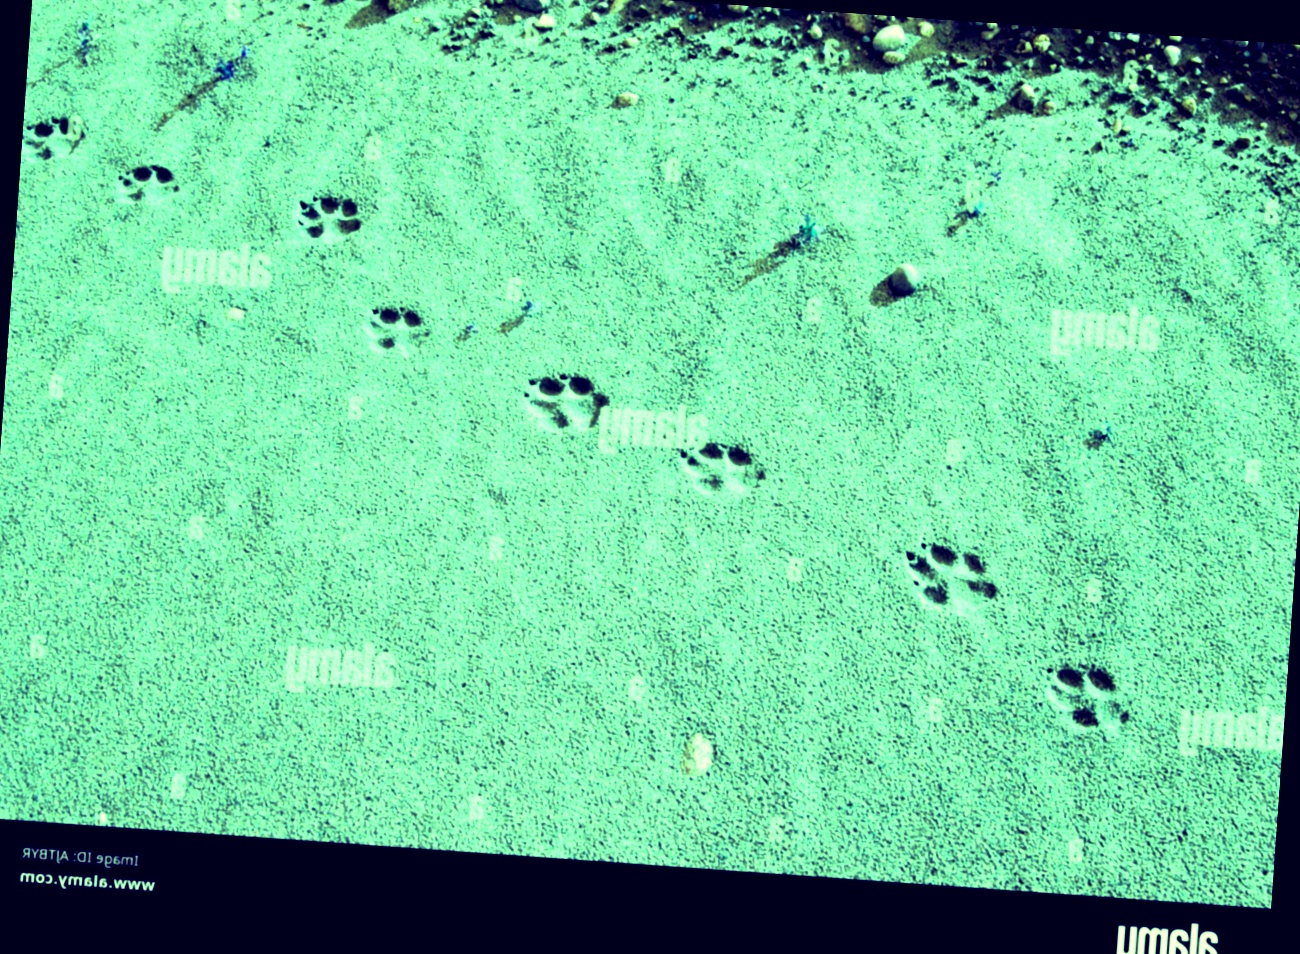loup: (517, 419, 661, 510), (671, 362, 811, 449), (277, 513, 407, 598), (853, 314, 994, 387), (151, 626, 262, 709), (945, 201, 1045, 284), (1122, 190, 1217, 261), (1229, 138, 1300, 226)
